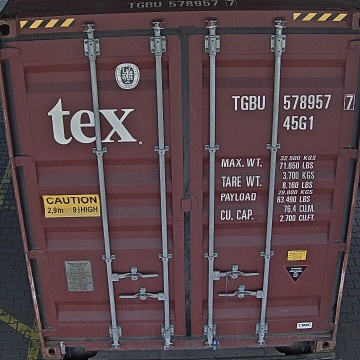serial_id: (232, 94, 354, 110)
